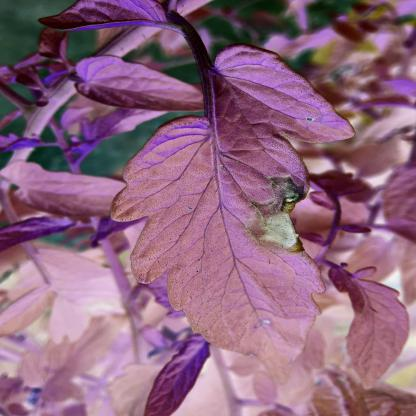tomato leaf late blight: (93, 36, 355, 385)
